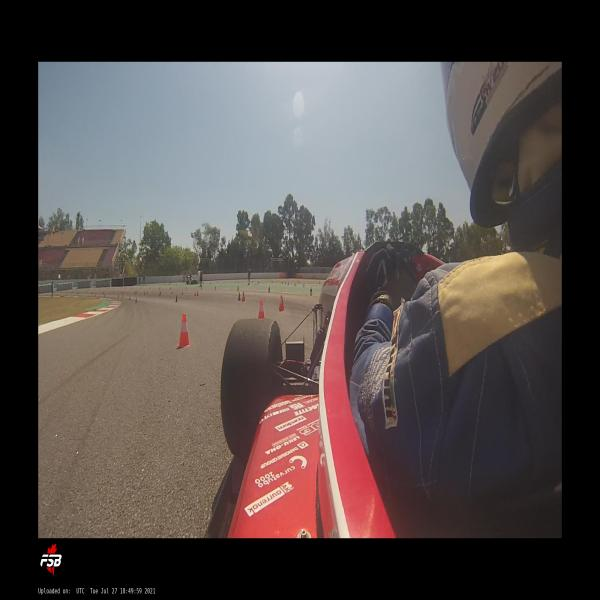orange_cone: (176, 314, 193, 348), (257, 300, 266, 318), (278, 296, 285, 312), (242, 291, 246, 301), (195, 290, 196, 296), (182, 290, 183, 295)
unknown_cone: (238, 291, 241, 301), (175, 295, 178, 302), (135, 297, 137, 303), (197, 291, 199, 296), (129, 296, 131, 300)
yellow_cone: (310, 287, 313, 296), (268, 286, 271, 292), (237, 286, 239, 292), (215, 286, 216, 291)
